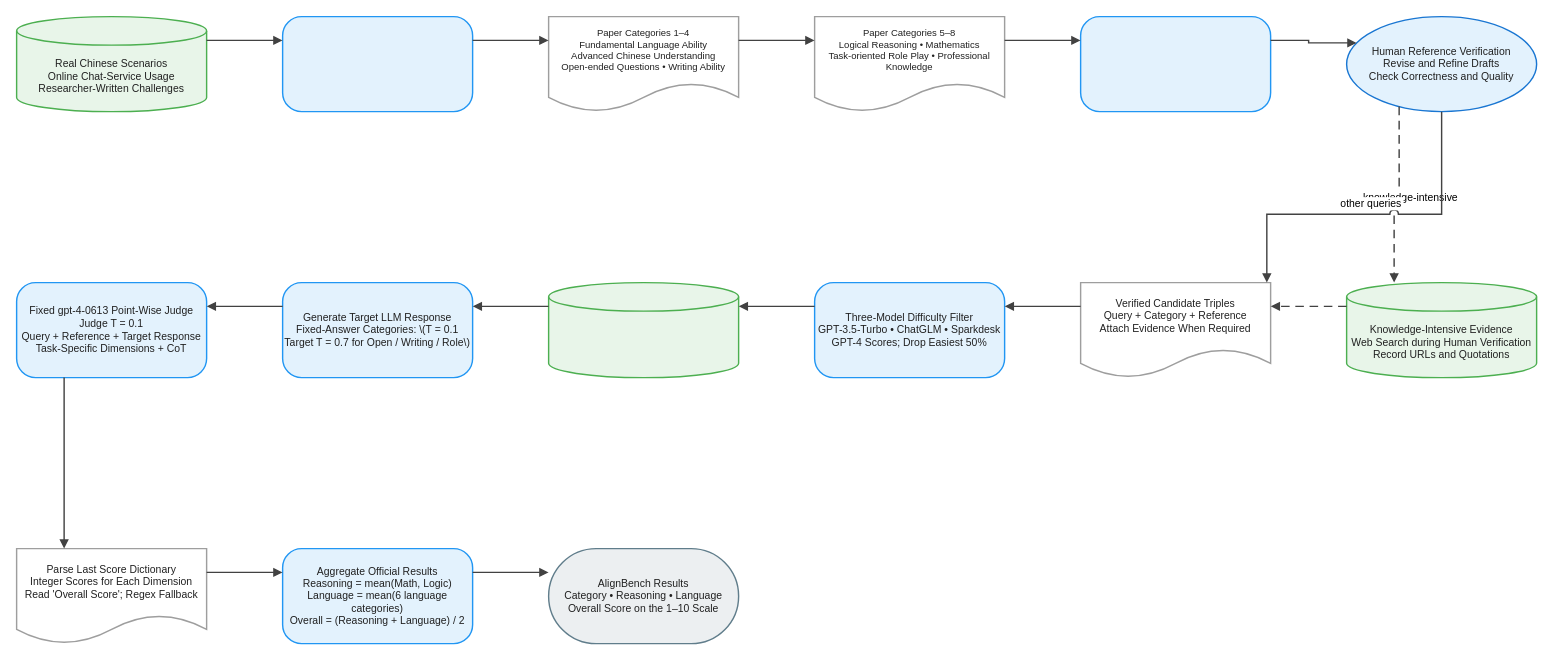
Image size: 1554x661. Some labels were removed from this diagram. Here are the shapes that lost their labels. From the top down, the centre of each, then its label:
At (377,63): "Four Query Rules Task-Oriented • Clear and Fluent Challenging • Desensitized".
At (1175,63): "GPT-4 Reference Draft Starting Point for Each Query".
At (643,329): "Release AlignBench 683 Chinese Queries Eight Main Categories".
